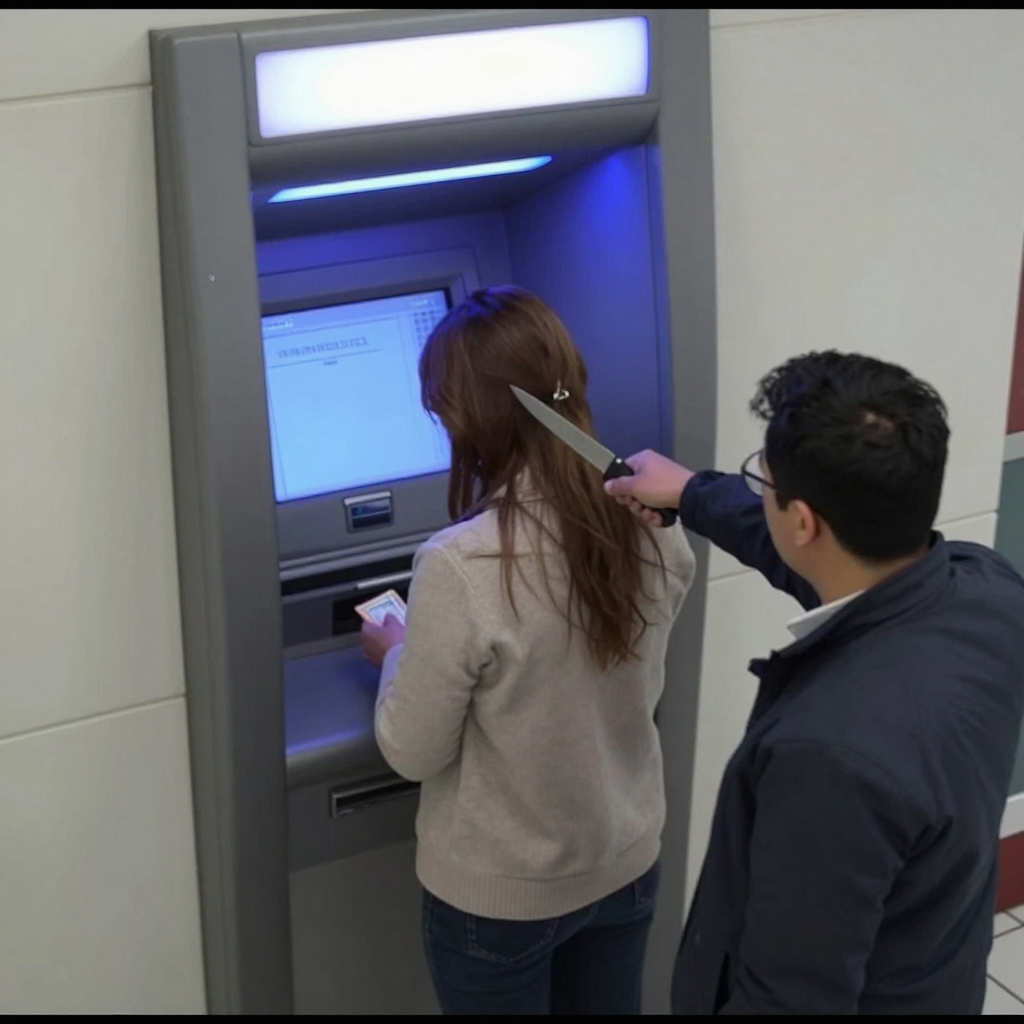Assault: (511, 375, 682, 522)
Robbery: (602, 348, 1024, 1015), (356, 283, 697, 1016)
